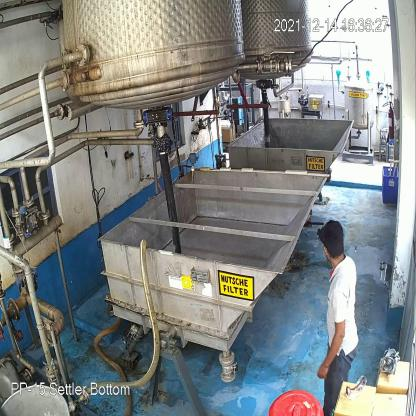no_glove: (315, 326, 346, 382)
